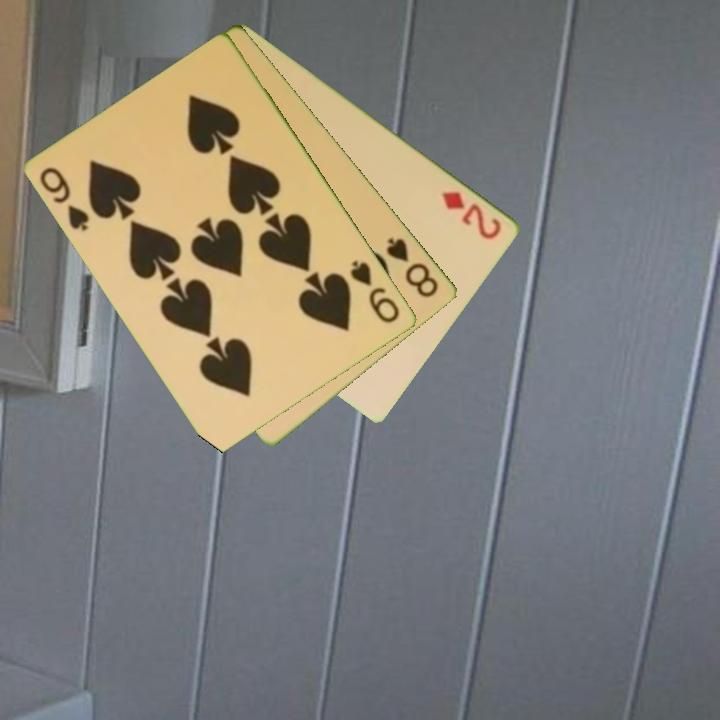2d: (438, 187, 505, 242)
8s: (383, 234, 442, 301)
9s: (36, 163, 93, 235), (347, 256, 403, 326)
